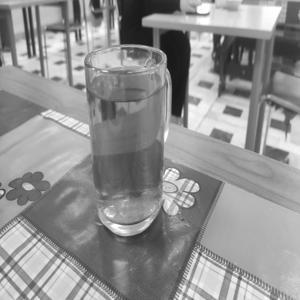tea: (75, 36, 186, 251)
